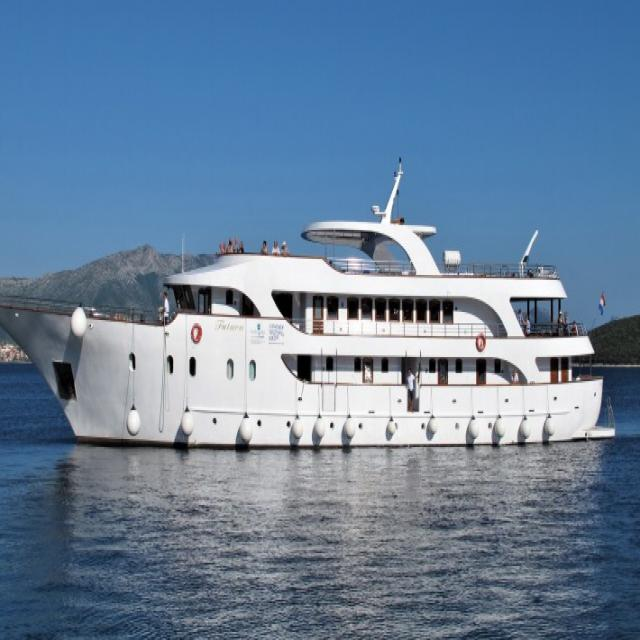cruises: (1, 153, 619, 462)
